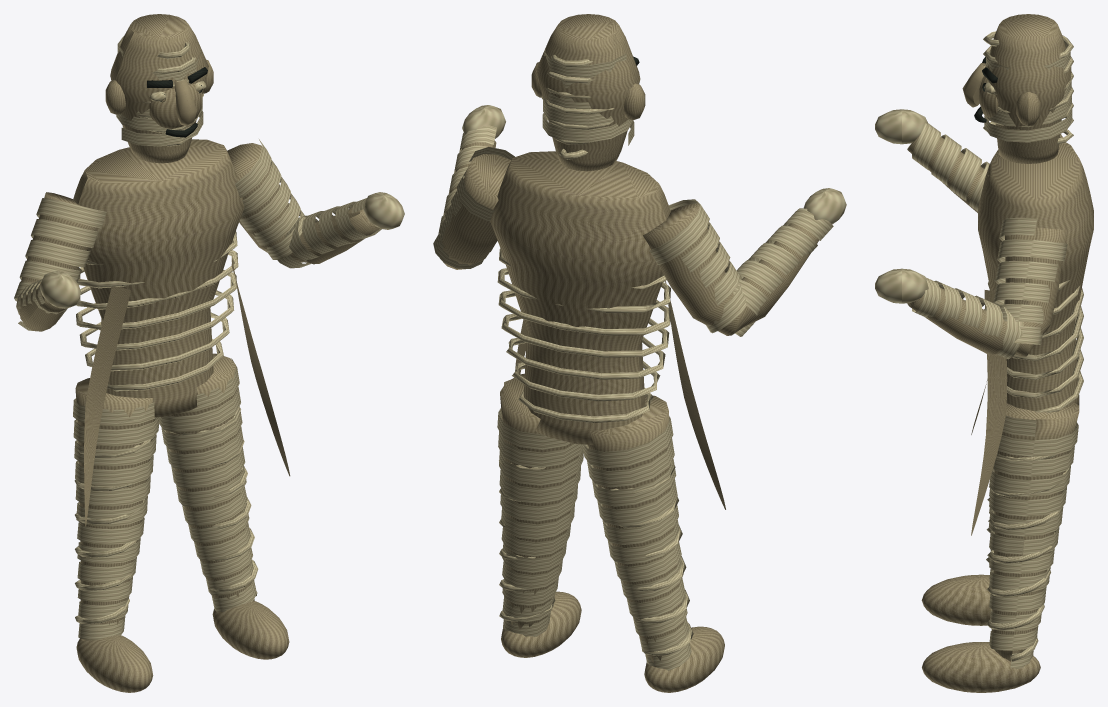
File: special-mummy.glb
The picture shows the model from 3 angles, left to right: view 1: azimuth 30°, elevation 25°; view 2: azimuth 150°, elevation 25°; view 3: azimuth 270°, elevation 25°; orthographic projection. The views are drawn at different scales.
Parts seen in each view (by area): view 1: linen, bone, dark; view 2: linen, bone; view 3: linen, bone.
Part boxes in pixels (x1,y1,x2,y2): linen: [16, 14, 379, 692]; bone: [14, 36, 404, 640]; dark: [147, 67, 207, 137]; linen: [440, 14, 819, 692]; bone: [433, 49, 846, 670]; linen: [907, 14, 1093, 692]; bone: [875, 31, 1083, 668].
Bounding box in the file's own units: 0.834 × 1.4 × 0.4412.
3 materials, 3 textured.
